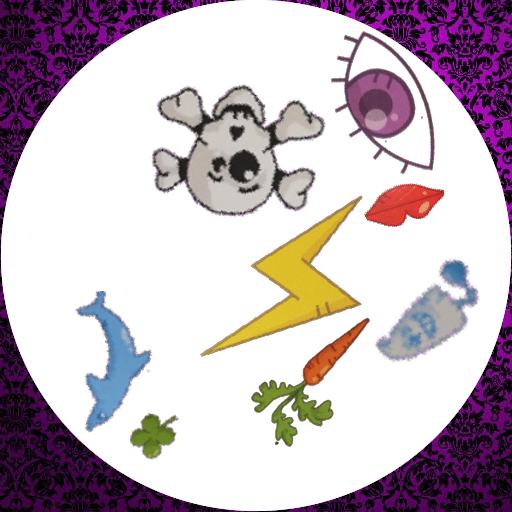carrot_icon: (232, 309, 372, 449)
cloverleaf_icon: (130, 410, 185, 465)
dolphin_icon: (36, 291, 178, 433)
eye_icon: (309, 25, 467, 183)
ghost_icon: (365, 252, 492, 379)
lightning_icon: (179, 178, 393, 392)
lips_icon: (362, 159, 444, 241)
skull_icon: (132, 54, 330, 252)
